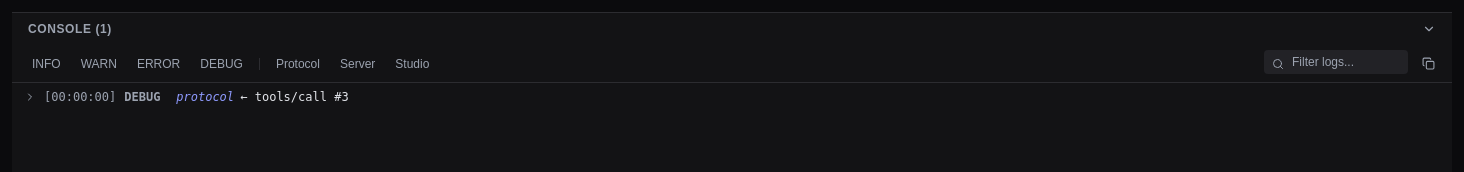
LogsPanel source, level and search filters › shows a truncated body as its raw JSON text, not a quoted string
The image size is (1464, 172).
Step 1. Click the button "[00:00:00] DEBUG protocol ← tools/call #3" → [80, 97], box [24,87,1440,107]
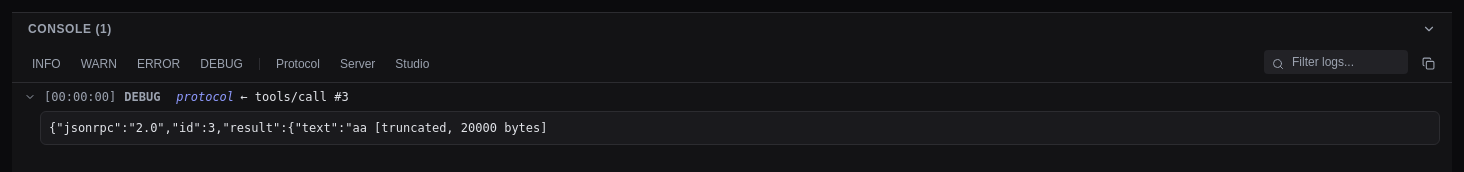
Check: the text with id "log-detail-t" reads "{\"jsonrpc\":\"2.0\",\"id\":3,\"result\":{\"text\":\"aa [truncated, 20000 bytes]", box [49,121,548,135]
